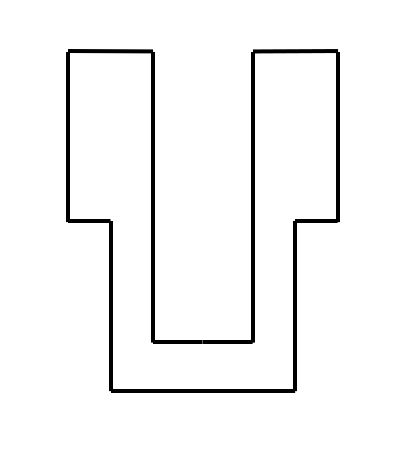nrfp: (91, 25, 311, 404)
